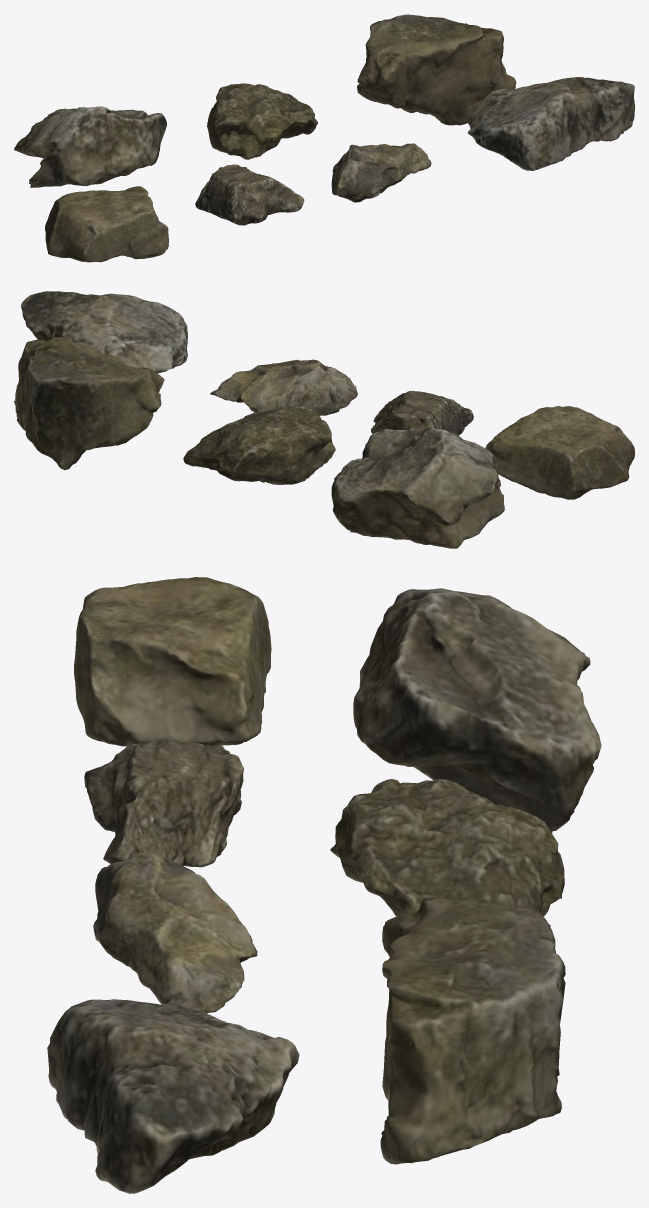
Rendered from rock_moss_set_02_wood.glb.
3 renders of one model, top to bottom at view 1: azimuth 30°, elevation 25°; view 2: azimuth 150°, elevation 25°; view 3: azimuth 270°, elevation 25°, orthographic. The views are drawn at different scales.
Visible parts, largest first — view 1: rock_moss_set_02_rock13, rock_moss_set_02_rock10, rock_moss_set_02_rock11, rock_moss_set_02_rock07, rock_moss_set_02_rock12, rock_moss_set_02_rock08, rock_moss_set_02_rock09; view 2: rock_moss_set_02_rock11, rock_moss_set_02_rock13, rock_moss_set_02_rock07, rock_moss_set_02_rock10, rock_moss_set_02_rock12, rock_moss_set_02_rock09, rock_moss_set_02_rock08; view 3: rock_moss_set_02_rock13, rock_moss_set_02_rock11, rock_moss_set_02_rock10, rock_moss_set_02_rock07, rock_moss_set_02_rock12, rock_moss_set_02_rock09, rock_moss_set_02_rock08.
Part boxes in pixels (bbox=[...]): rock_moss_set_02_rock13: bbox=[357, 14, 516, 125]; rock_moss_set_02_rock10: bbox=[467, 77, 634, 170]; rock_moss_set_02_rock11: bbox=[14, 106, 166, 187]; rock_moss_set_02_rock07: bbox=[45, 186, 168, 262]; rock_moss_set_02_rock12: bbox=[207, 83, 317, 159]; rock_moss_set_02_rock08: bbox=[195, 164, 304, 225]; rock_moss_set_02_rock09: bbox=[331, 143, 431, 202]; rock_moss_set_02_rock11: bbox=[331, 427, 504, 548]; rock_moss_set_02_rock13: bbox=[14, 337, 164, 470]; rock_moss_set_02_rock07: bbox=[485, 406, 634, 499]; rock_moss_set_02_rock10: bbox=[21, 291, 187, 373]; rock_moss_set_02_rock12: bbox=[183, 406, 335, 484]; rock_moss_set_02_rock09: bbox=[210, 359, 357, 415]; rock_moss_set_02_rock08: bbox=[371, 390, 473, 435]; rock_moss_set_02_rock13: bbox=[380, 895, 565, 1164]; rock_moss_set_02_rock11: bbox=[353, 588, 601, 833]; rock_moss_set_02_rock10: bbox=[47, 999, 299, 1193]; rock_moss_set_02_rock07: bbox=[74, 577, 271, 746]; rock_moss_set_02_rock12: bbox=[330, 779, 564, 926]; rock_moss_set_02_rock09: bbox=[93, 851, 257, 1013]; rock_moss_set_02_rock08: bbox=[84, 741, 243, 867].
Size of the model in its own units: 8.28 by 1.37 by 3.41.
Materials: 1 (1 with a texture image).
